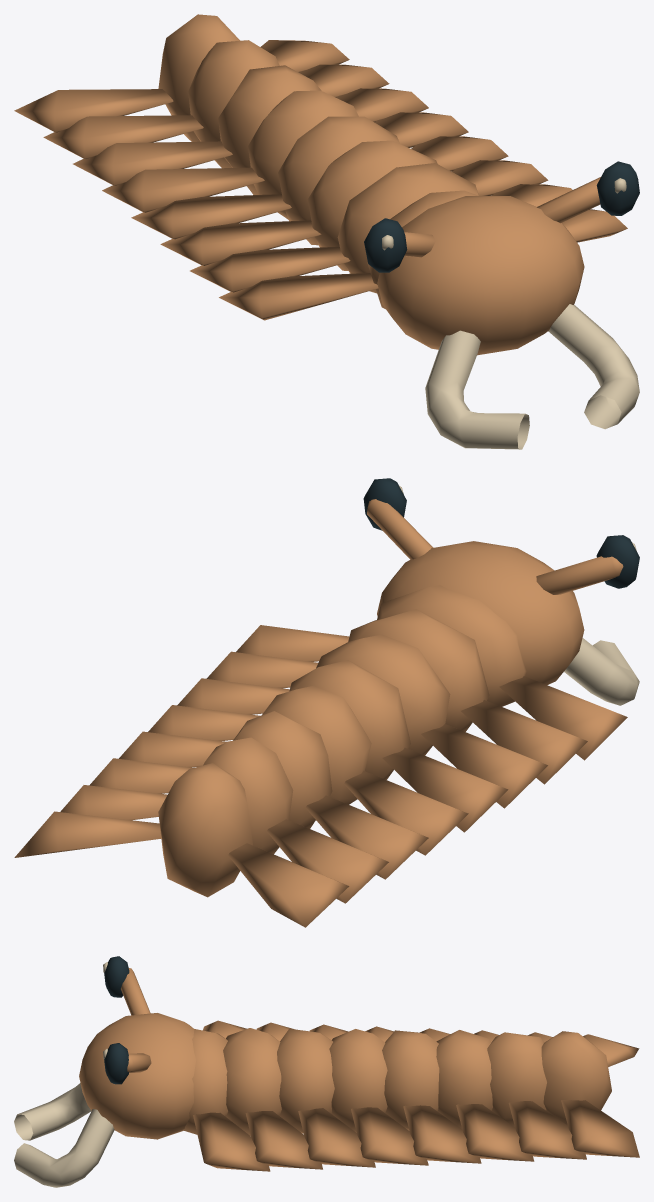
The model's file is org_anomalocaris.glb.
3 renders of one model, top to bottom at view 1: azimuth 30°, elevation 25°; view 2: azimuth 150°, elevation 25°; view 3: azimuth 270°, elevation 25°, orthographic. The views are drawn at different scales.
Visible parts, largest first — view 1: Body, Head, Eye_L, Eye_R; view 2: Body, Head, Eye_L, Eye_R; view 3: Body, Head, Eye_R, Eye_L.
Boxes of the visible parts, x1,y1,x2,y2 form: Body: (14, 14, 627, 320); Head: (377, 177, 639, 449); Eye_L: (364, 218, 407, 272); Eye_R: (596, 161, 639, 215); Body: (14, 585, 627, 927); Head: (367, 499, 639, 705); Eye_L: (596, 535, 639, 588); Eye_R: (363, 478, 406, 530); Body: (182, 1020, 639, 1171); Head: (14, 968, 195, 1187); Eye_R: (103, 1043, 128, 1084); Eye_L: (103, 956, 129, 997).
Bounding box in the file's own units: 1.21 × 0.6507 × 2.34.
